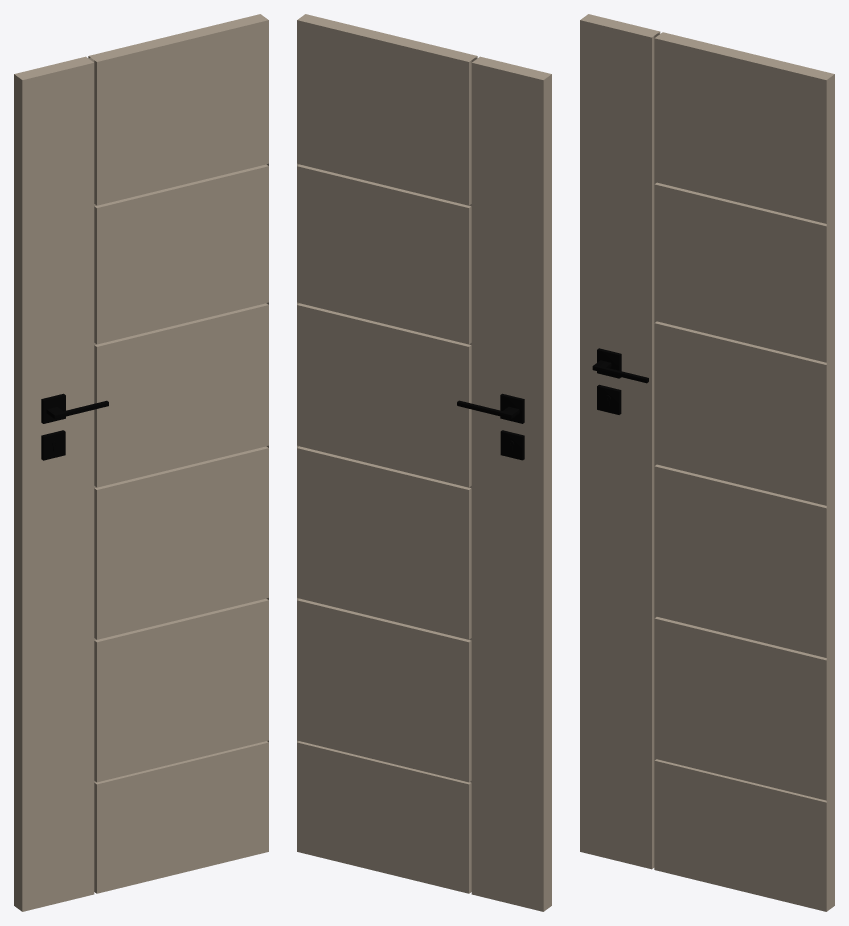
The model's file is SC_3_full2_door.glb.
3 views of the same model, side by side, from view 1: azimuth 30°, elevation 25°; view 2: azimuth 150°, elevation 25°; view 3: azimuth 330°, elevation 25° (orthographic).
Parts seen in each view (by area): view 1: SC_3__2_door_; view 2: SC_3__2_door_; view 3: SC_3__2_door_.
Part boxes in pixels (x1,y1,x2,y2): SC_3__2_door_: (14,14,268,911); SC_3__2_door_: (297,14,551,911); SC_3__2_door_: (580,14,834,911).
Bounding box in the file's own units: 0.5514 × 1.78 × 0.1089.
Materials: 1 (1 with a texture image).
